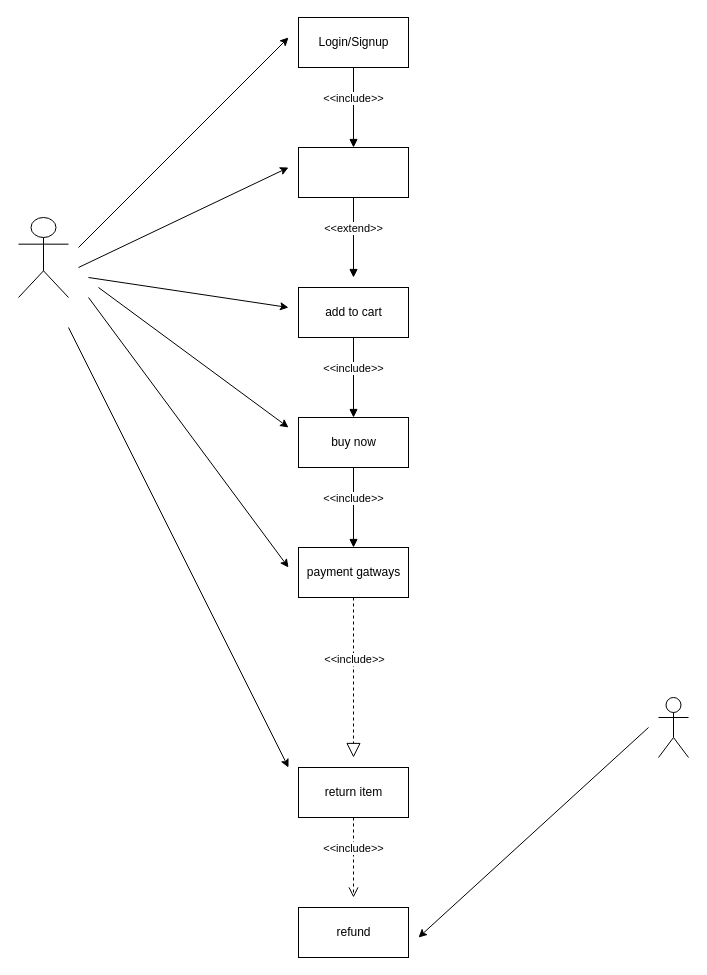
The diagram is 707 pixels wide and 975 high, and some of its shapes have lost their labels. The centre of each missing label's shape, as x and y in pixels:
"admin" belongs at pixel 673 727.
"Customer" belongs at pixel 43 257.
"explore books" belongs at pixel 353 172.
